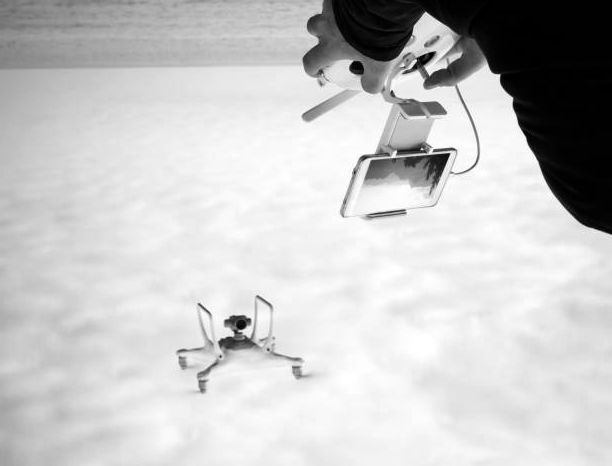Drone: (166, 291, 326, 401)
